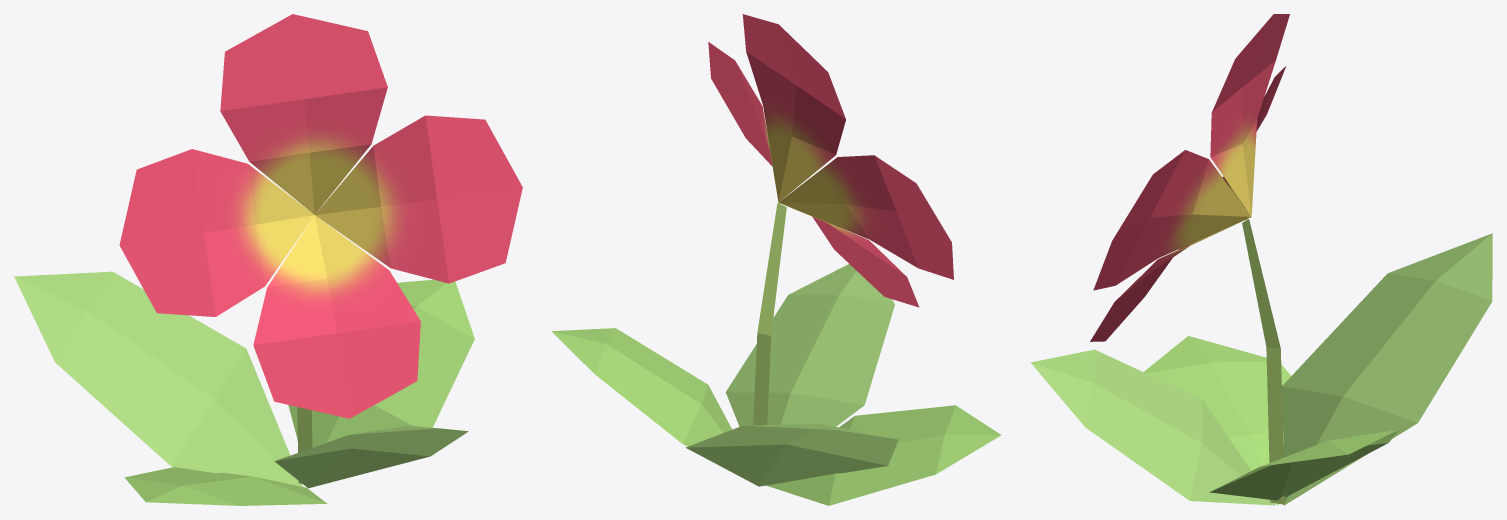
Rendered from Flower_c_OneS_11.fbx.
3 renders of one model, left to right at view 1: azimuth 30°, elevation 25°; view 2: azimuth 150°, elevation 25°; view 3: azimuth 270°, elevation 25°, orthographic. The views are drawn at different scales.
Visible parts, largest first — view 1: Flower_c_OneS_11; view 2: Flower_c_OneS_11; view 3: Flower_c_OneS_11.
Part boxes in pixels (box(x1,y1,x2,y2)): Flower_c_OneS_11: box(14, 14, 522, 505); Flower_c_OneS_11: box(551, 14, 1001, 505); Flower_c_OneS_11: box(1030, 14, 1492, 505).
Size of the model in its own units: 35.15 by 41.57 by 35.94.
